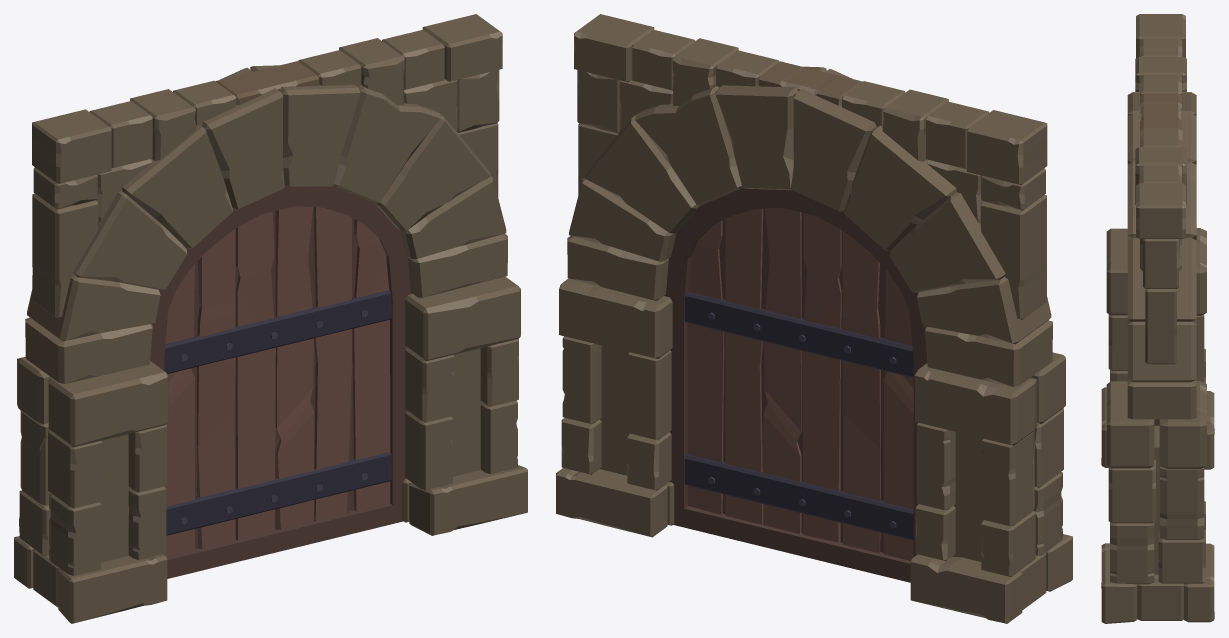
File: Arch_Door.fbx
3 views of the same model, side by side, from view 1: azimuth 30°, elevation 25°; view 2: azimuth 150°, elevation 25°; view 3: azimuth 270°, elevation 25° (orthographic). The views are drawn at different scales.
Parts seen in each view (by area): view 1: Arch, Arch_Door; view 2: Arch, Arch_Door; view 3: Arch.
Part boxes in pixels (x1,y1,x2,y2): Arch: (14, 14, 527, 623); Arch_Door: (150, 185, 412, 578); Arch: (556, 14, 1072, 623); Arch_Door: (664, 187, 927, 582); Arch: (1101, 14, 1214, 623).
Size of the model in its own units: 410 by 401 by 99.26.
